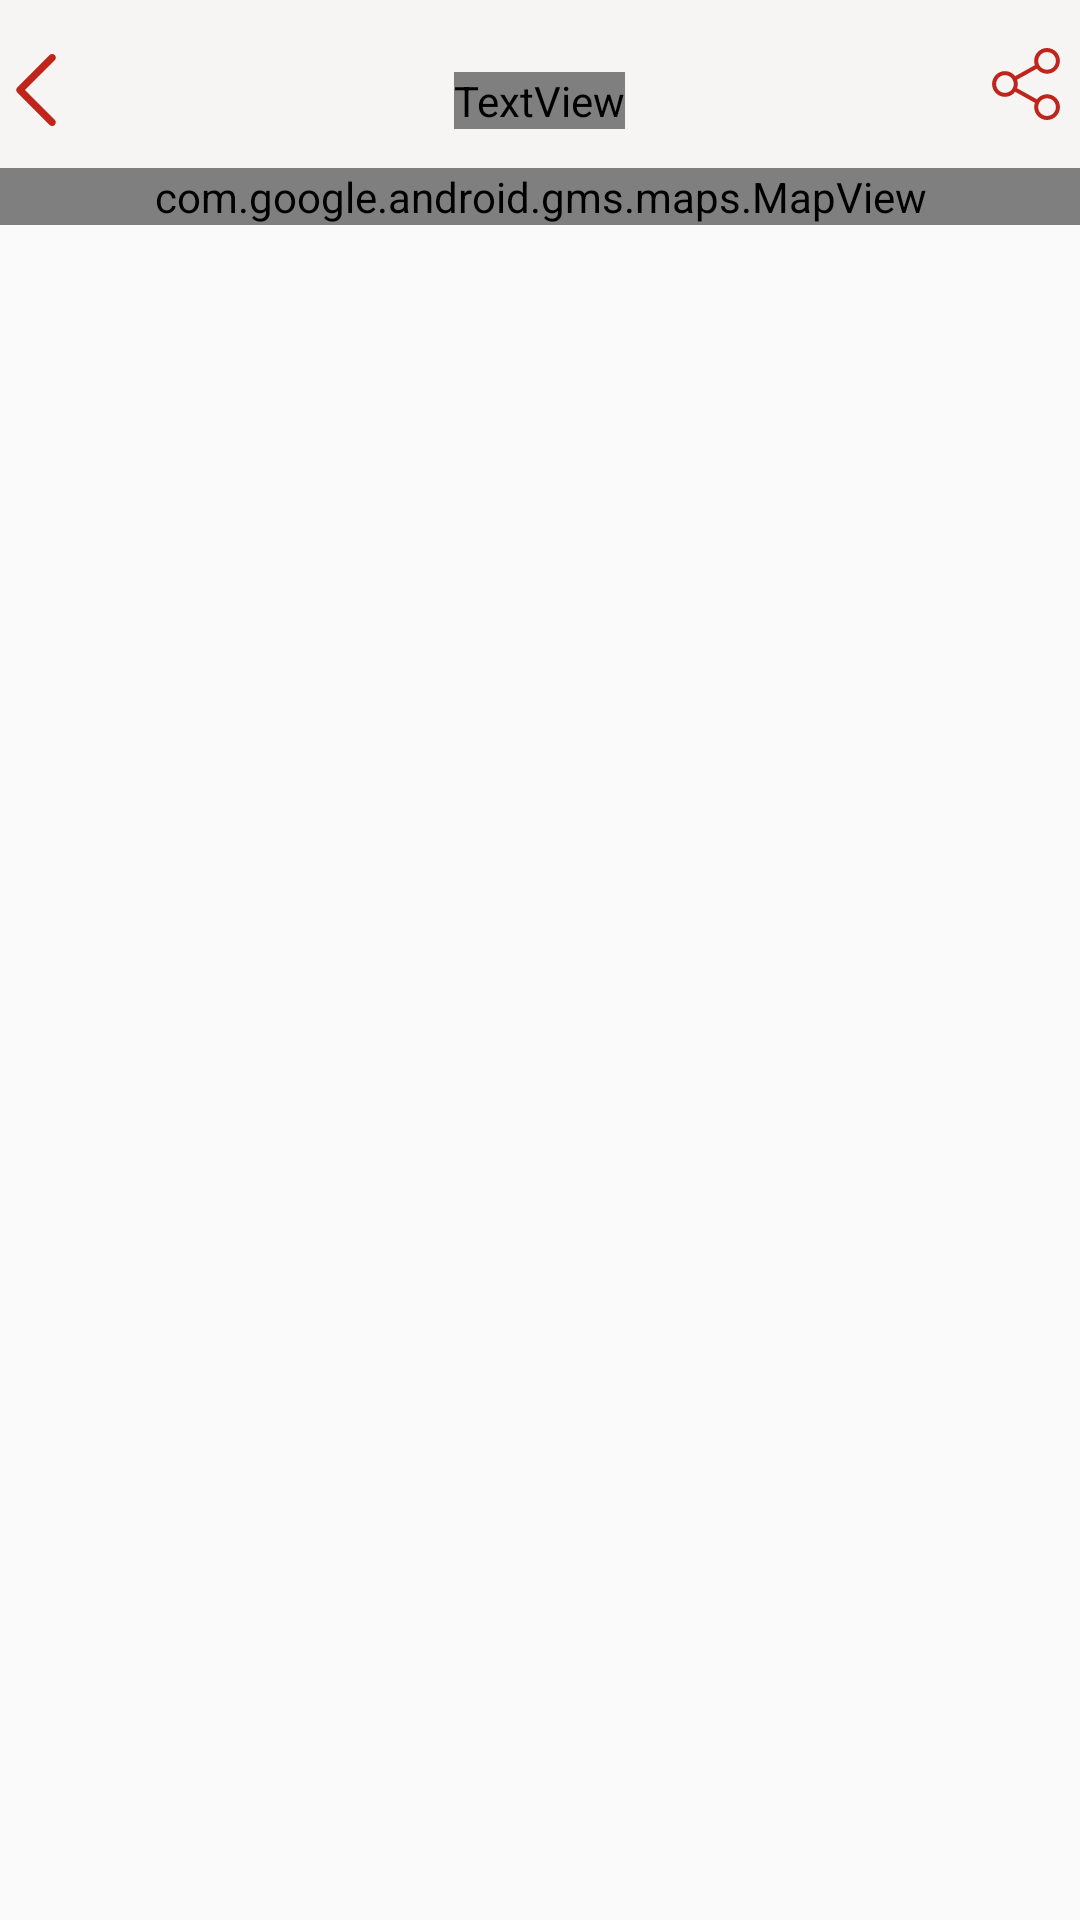

Where icons sit on this 1080x1920 app screen, as (x1, y1, x2, y2):
back: (16, 54, 56, 126)
share: (992, 48, 1060, 120)
